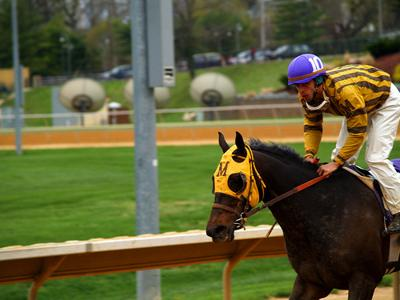person: (286, 52, 400, 231)
